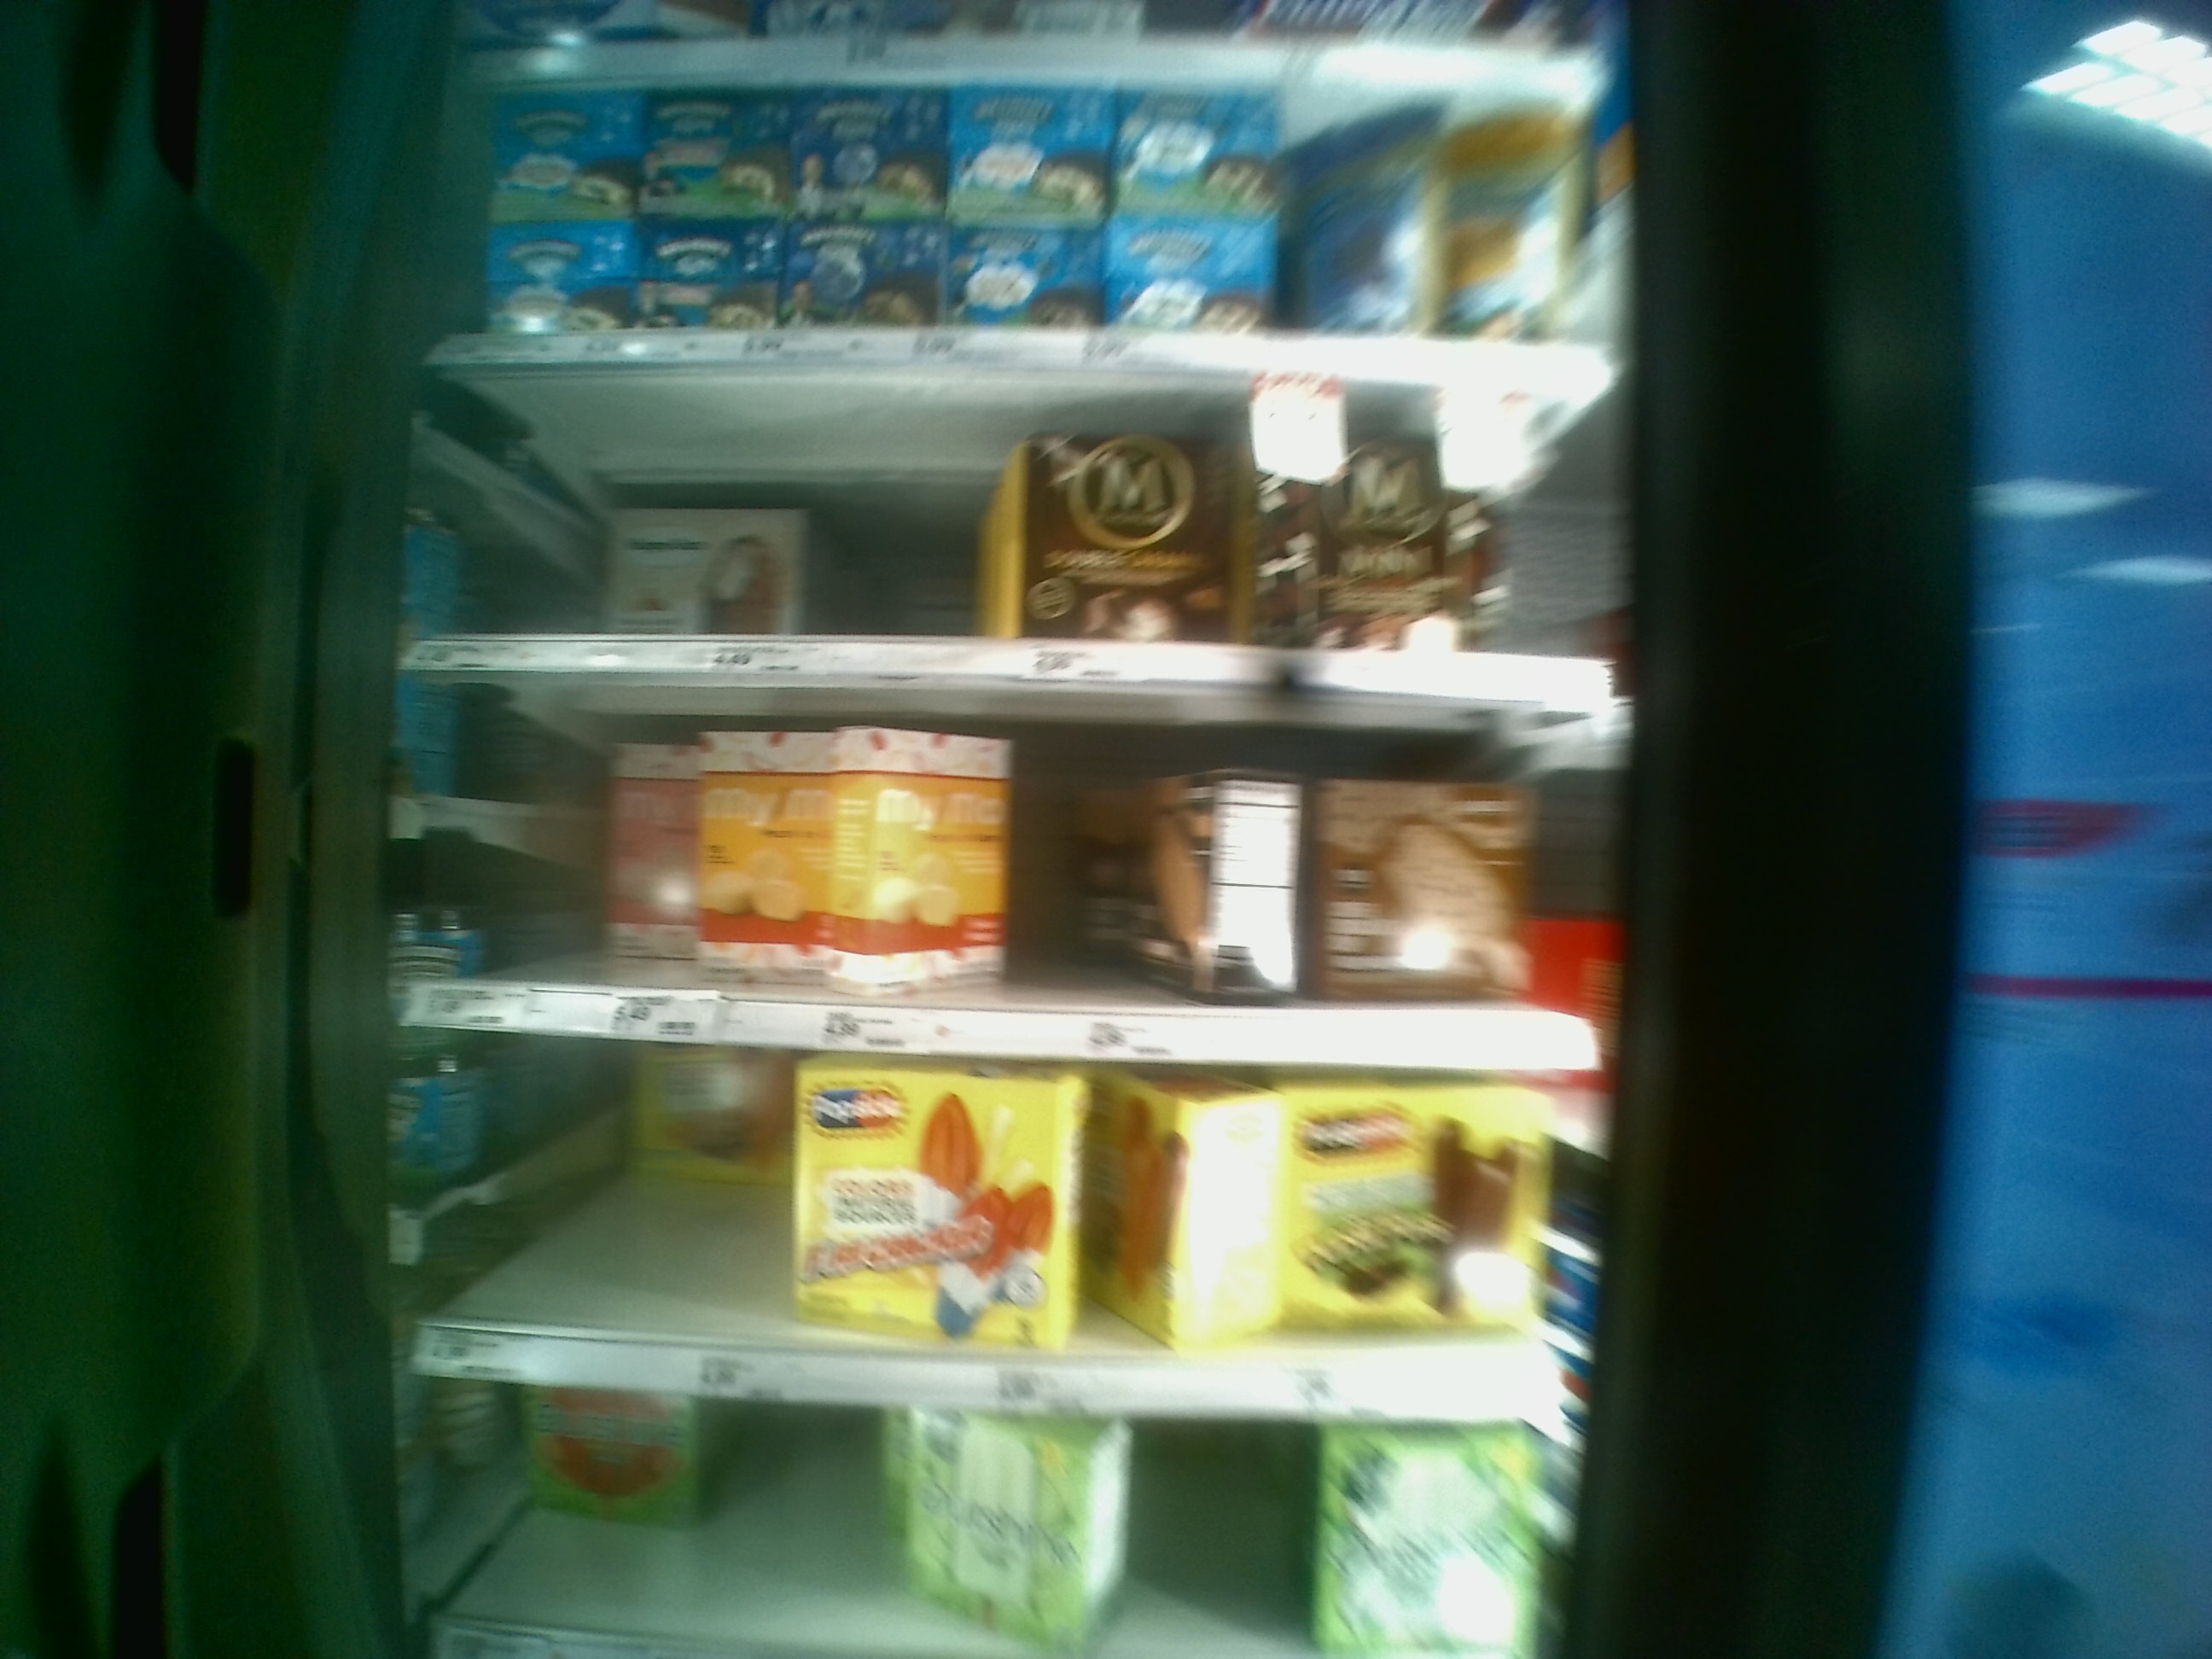ice-cream-shelf: (399, 673, 1611, 1060), (394, 1033, 1590, 1412), (399, 369, 1627, 688)
